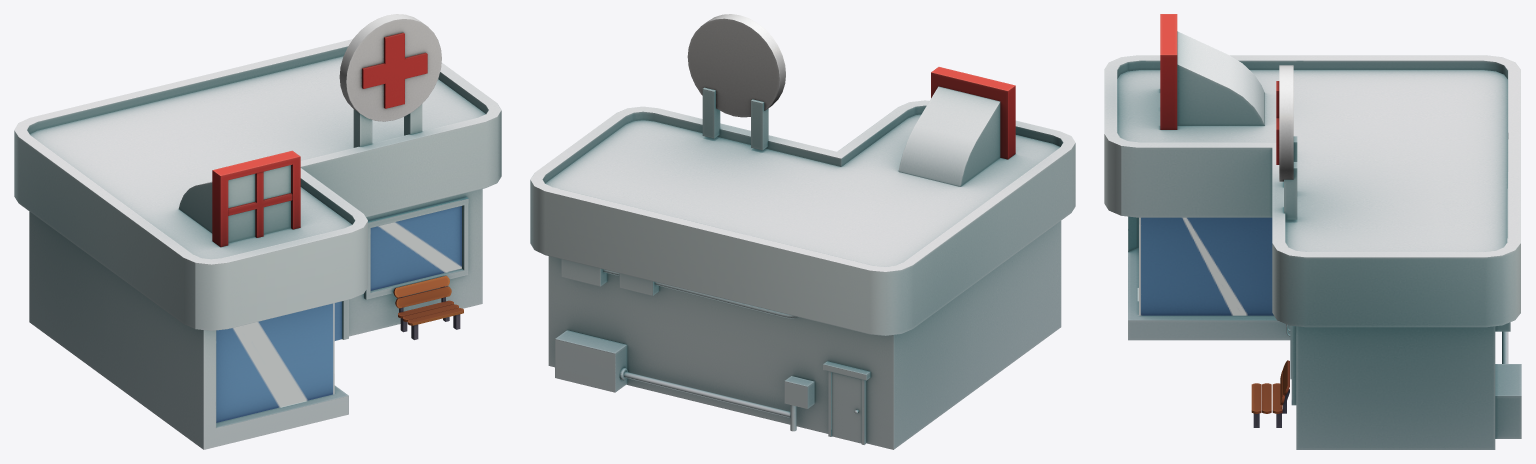
File: Hospital.fbx
The picture shows the model from 3 angles, left to right: view 1: azimuth 30°, elevation 25°; view 2: azimuth 150°, elevation 25°; view 3: azimuth 270°, elevation 25°; orthographic projection. The views are drawn at different scales.
Visible parts, largest first — view 1: Cube.001; view 2: Cube.001; view 3: Cube.001.
Part boxes in pixels (x1,y1,x2,y2): Cube.001: (14, 14, 501, 449); Cube.001: (530, 14, 1075, 449); Cube.001: (1104, 14, 1521, 449).
Bounding box in the file's own units: 262 × 199 × 228.
Materials: 1 (1 with a texture image).
